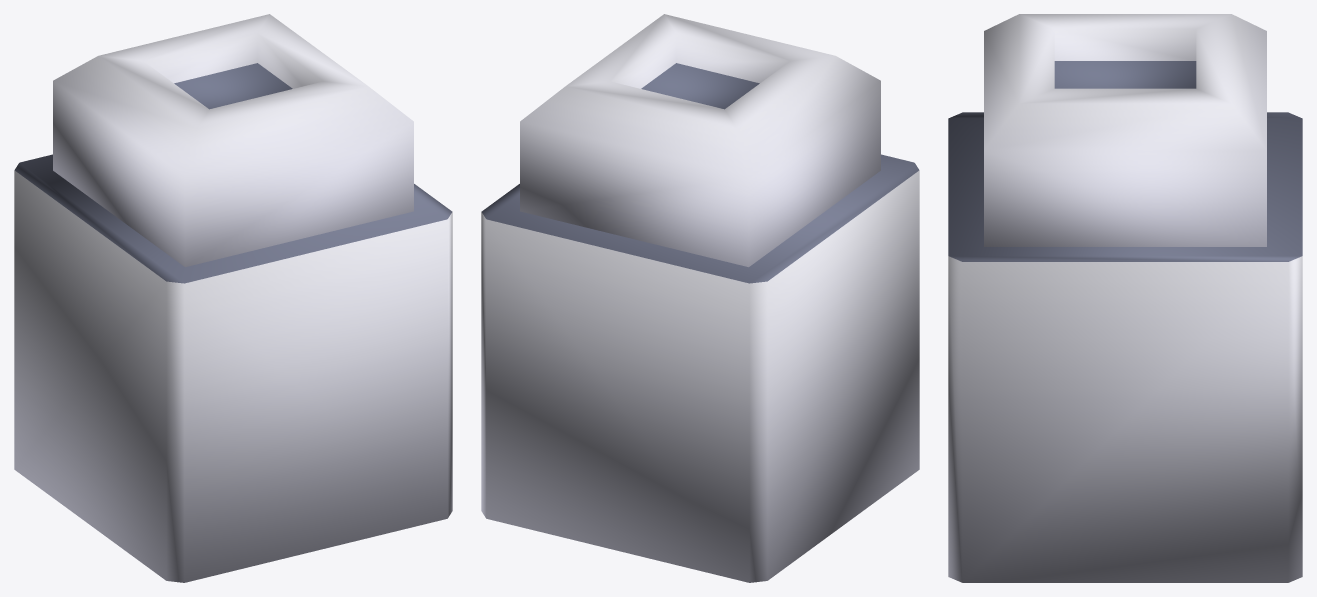
File: low-detail-building-n_lev1.glb
The picture shows the model from 3 angles, left to right: view 1: azimuth 30°, elevation 25°; view 2: azimuth 150°, elevation 25°; view 3: azimuth 270°, elevation 25°; orthographic projection. The views are drawn at different scales.
Visible parts, largest first — view 1: low-detail-building-n_lev1; view 2: low-detail-building-n_lev1; view 3: low-detail-building-n_lev1.
Part boxes in pixels (left/top/right/bottom): low-detail-building-n_lev1: left=14, top=14, right=452, bottom=582; low-detail-building-n_lev1: left=481, top=14, right=919, bottom=582; low-detail-building-n_lev1: left=948, top=14, right=1302, bottom=582.
Bounding box in the file's own units: 0.5 × 0.7 × 0.5.
Materials: 1 (1 with a texture image).
